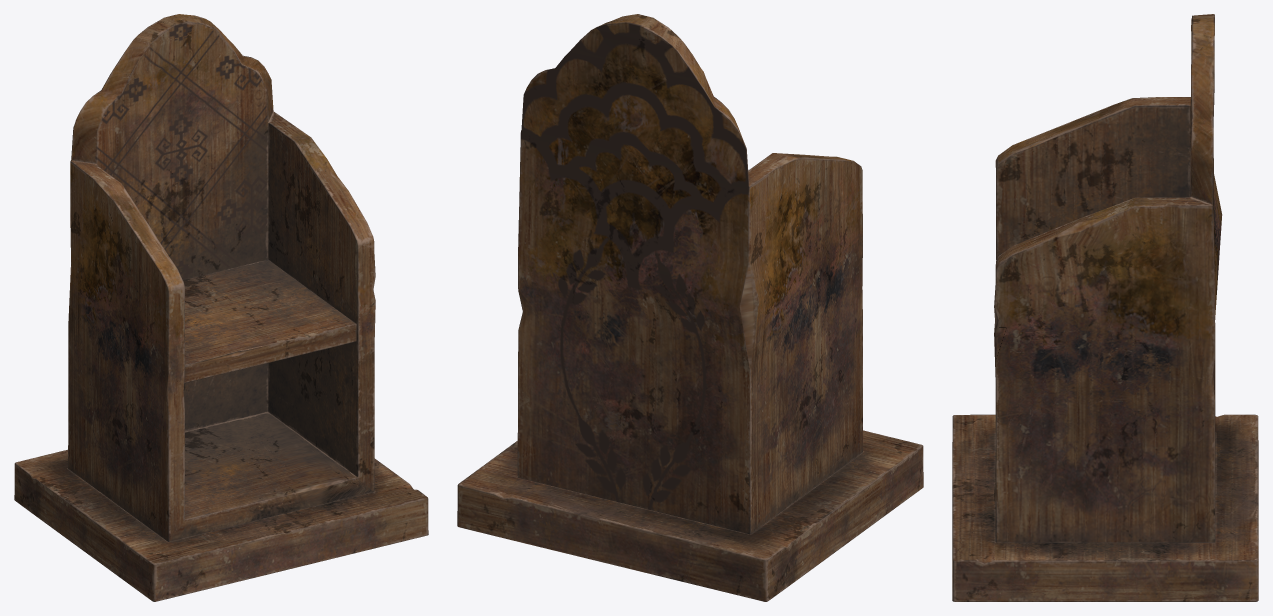
Rendered from mung.glb.
3 renders of one model, left to right at view 1: azimuth 30°, elevation 25°; view 2: azimuth 150°, elevation 25°; view 3: azimuth 270°, elevation 25°, orthographic. The views are drawn at different scales.
Visible parts, largest first — view 1: Object_2; view 2: Object_2; view 3: Object_2.
Part boxes in pixels (x1=…): Object_2: x1=14, y1=14, x2=428, y2=601; Object_2: x1=457, y1=14, x2=923, y2=601; Object_2: x1=952, y1=14, x2=1258, y2=601.
Size of the model in its own units: 0.4008 by 0.6464 by 0.3533.
1 material, 1 textured.
